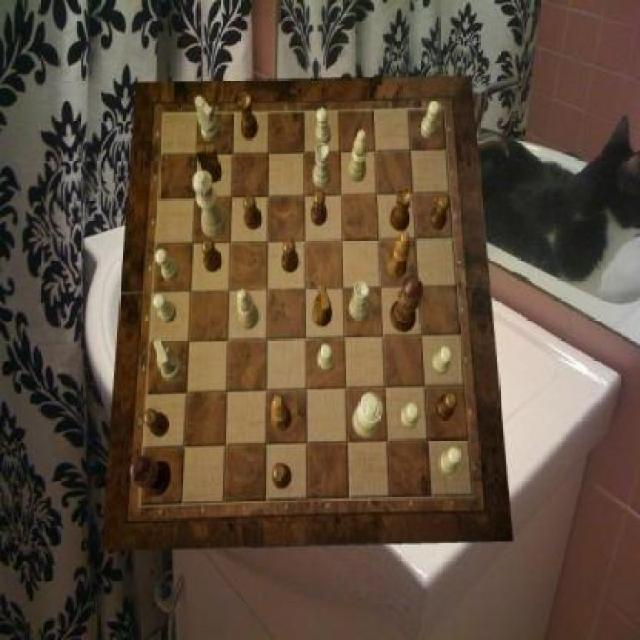bishop: (388, 232, 410, 280), (270, 396, 292, 432)
black-bishop: (130, 457, 172, 497)
black-king: (195, 145, 222, 183), (312, 285, 332, 327)
black-knight: (144, 409, 170, 437), (431, 194, 451, 230), (243, 194, 262, 230), (203, 238, 223, 272), (435, 392, 458, 420), (283, 238, 300, 272), (311, 190, 327, 226), (272, 463, 292, 489)
black-pawn: (390, 275, 422, 333)
black-queen: (389, 188, 412, 232), (238, 94, 258, 140)
black-rook: (348, 129, 367, 183), (237, 289, 260, 331)
white-bishop: (352, 392, 383, 438)
white-king: (196, 96, 222, 142), (154, 340, 181, 382)
white-knight: (156, 249, 180, 283), (420, 100, 440, 138), (152, 294, 176, 323), (440, 448, 463, 475), (432, 346, 452, 376), (316, 108, 332, 145), (400, 403, 419, 431), (317, 345, 335, 372)
white-pawn: (192, 171, 226, 238)
white-queen: (349, 282, 370, 322), (314, 143, 331, 189)
